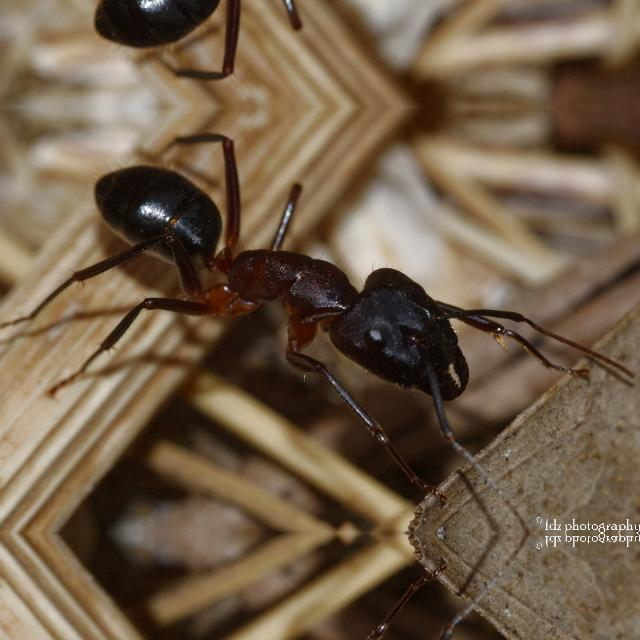Camponotus: (19, 108, 609, 524), (19, 0, 609, 104), (19, 540, 609, 640)
